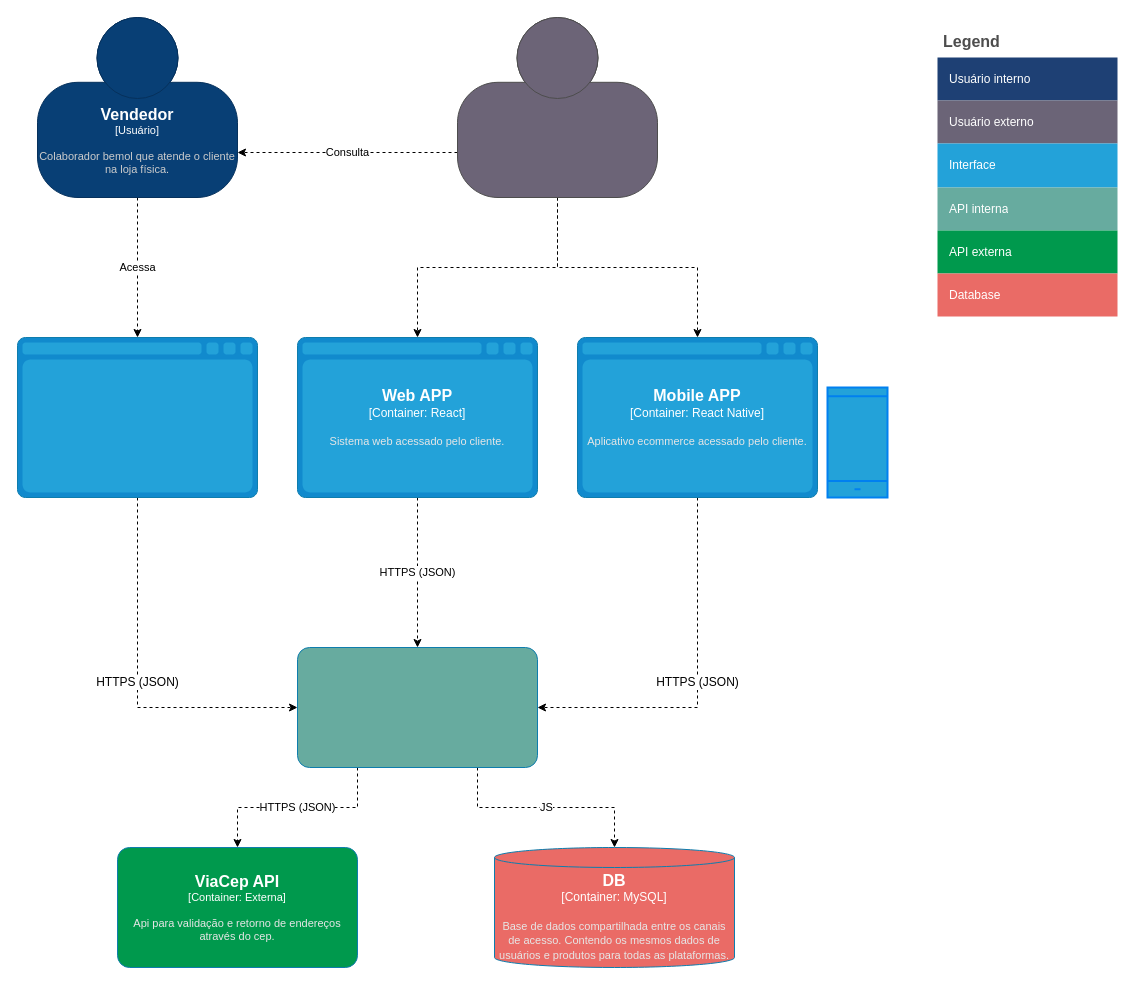
This 1135x985 diagram has some shape labels left out. Here are the shapes that lost their labels. From the top down, the centre of each, then its label:
At pixel 557 107: "Cliente [Usuário] Cliente das lojas bemol.".
At pixel 137 417: "Loja física [Container: React ou Java] Sistema de atendimento em loja.".
At pixel 417 707: "Backend API [Container: NodeJS] Interface de acesso ao backend.".
